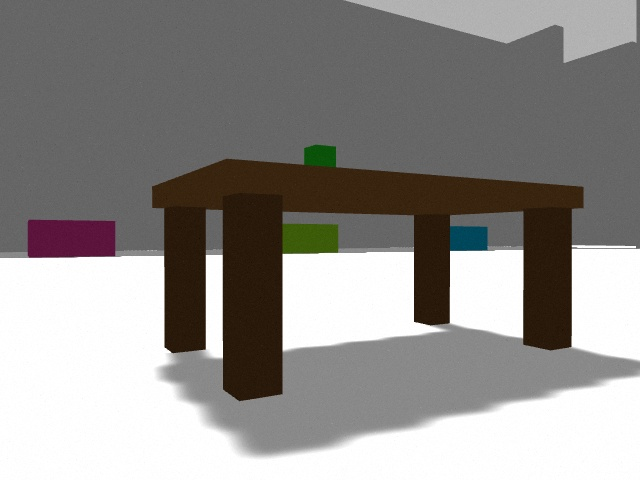blue_drop_zone: (450, 226, 488, 251)
green_cube: (304, 145, 336, 167)
green_drop_zone: (283, 224, 338, 254)
red_drop_zone: (28, 220, 115, 258)
